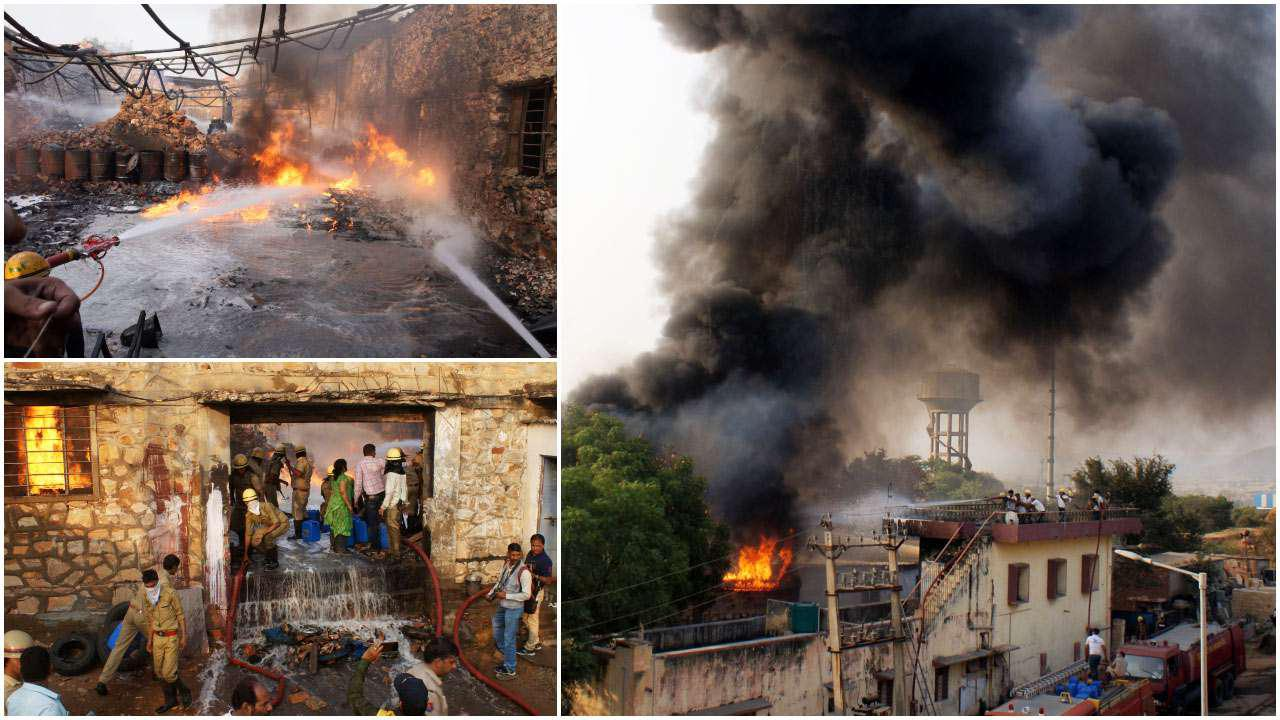fire: (130, 120, 466, 227), (17, 406, 95, 502), (716, 523, 801, 594)
